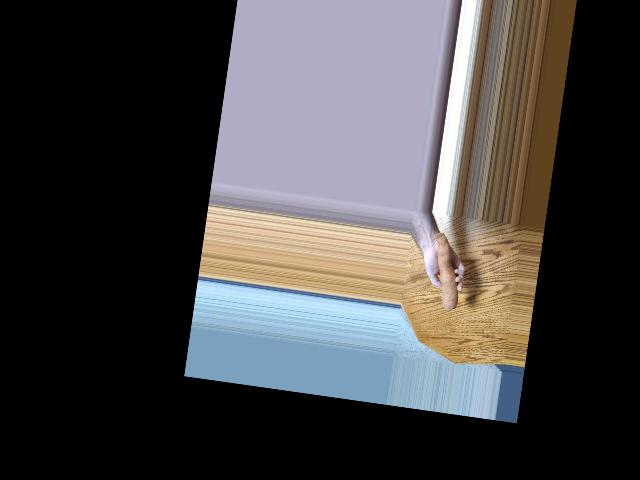sweet_potato: (429, 236, 468, 308)
